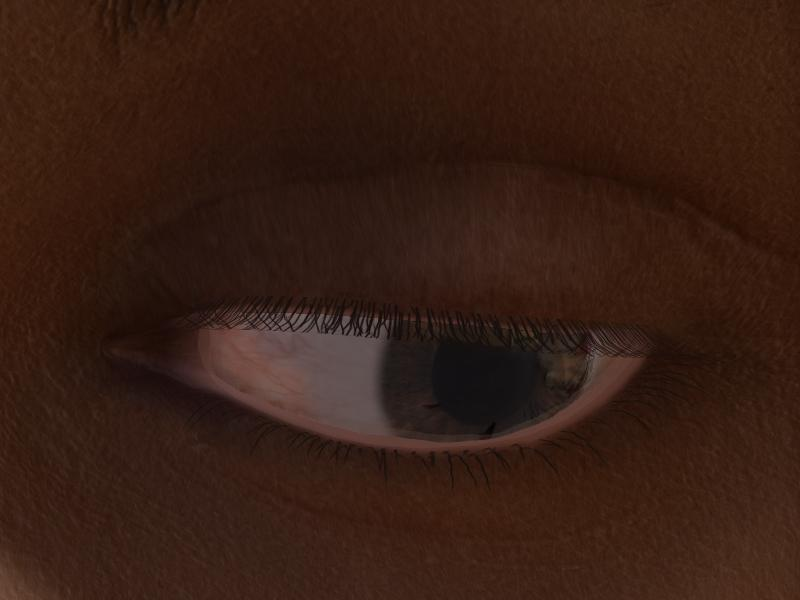eye: (384, 316, 591, 439)
